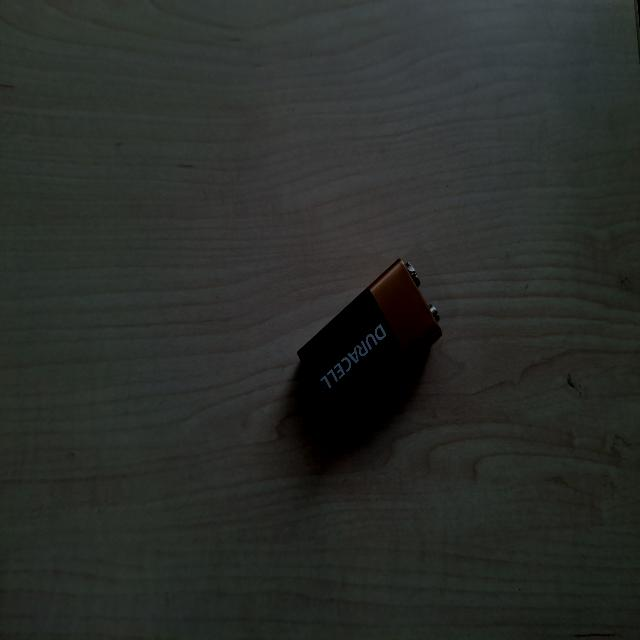9V: (154, 398, 286, 588)
